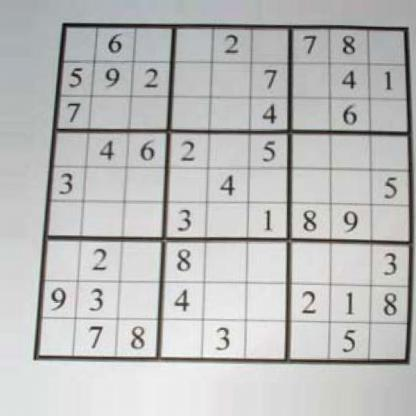sudoku: (30, 18, 415, 372)
